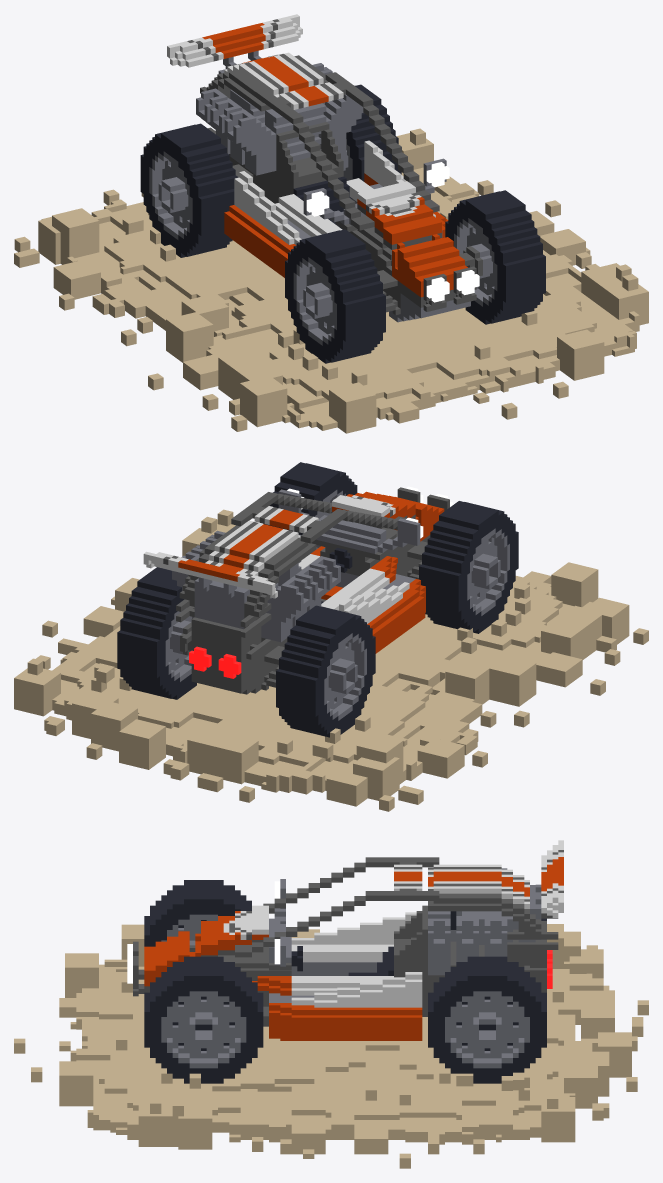
The model's file is lego_car.glb.
3 views of the same model, one above another, from view 1: azimuth 30°, elevation 25°; view 2: azimuth 150°, elevation 25°; view 3: azimuth 270°, elevation 25° (orthographic).
Parts seen in each view (by area): view 1: VoxTransform; view 2: VoxTransform; view 3: VoxTransform.
Part boxes in pixels (box(x1,y1,x2,y2)): VoxTransform: box(14, 14, 648, 433); VoxTransform: box(14, 462, 648, 811); VoxTransform: box(14, 840, 648, 1168).
Size of the model in its own units: 97 by 35 by 112.
